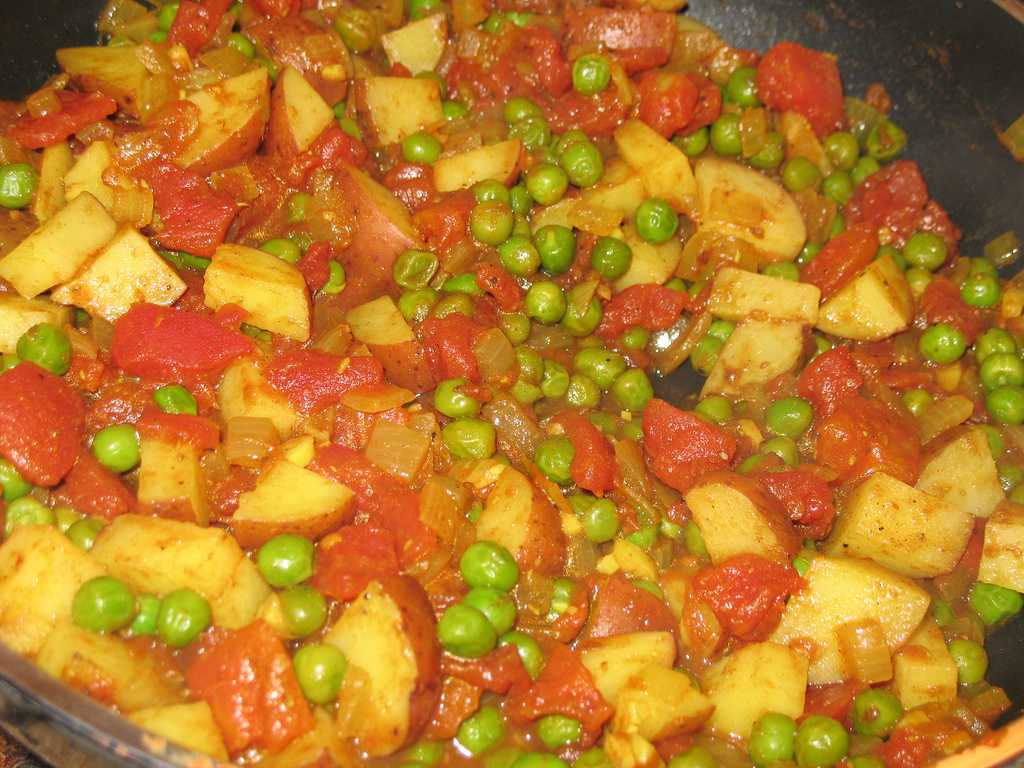boiled peas: (534, 327, 660, 413)
boiled potatoes: (597, 120, 809, 266)
